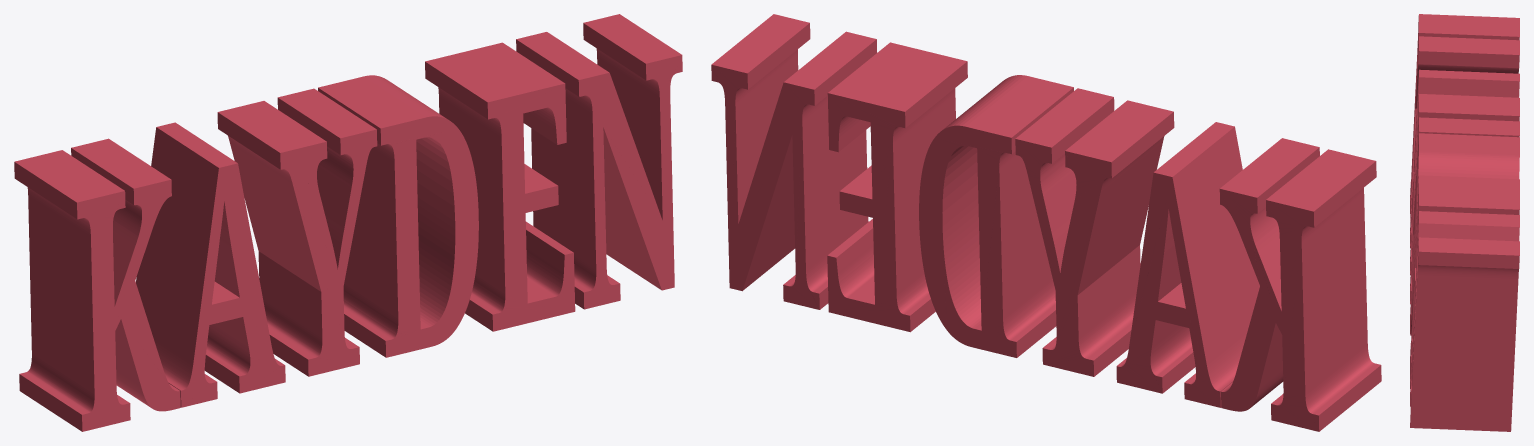
File: kayden2.glb
3 renders of one model, left to right at view 1: azimuth 30°, elevation 25°; view 2: azimuth 150°, elevation 25°; view 3: azimuth 270°, elevation 25°, orthographic. The views are drawn at different scales.
Parts seen in each view (by area): view 1: Mesh_Mesh_head_geo.001_lambert2SG.001; view 2: Mesh_Mesh_head_geo.001_lambert2SG.001; view 3: Mesh_Mesh_head_geo.001_lambert2SG.001.
Boxes of the visible parts, x1,y1,x2,y2 form: Mesh_Mesh_head_geo.001_lambert2SG.001: [14, 14, 682, 431]; Mesh_Mesh_head_geo.001_lambert2SG.001: [711, 14, 1381, 431]; Mesh_Mesh_head_geo.001_lambert2SG.001: [1410, 14, 1519, 431].
Size of the model in its own units: 0.0557 by 0.0202 by 0.0109.
